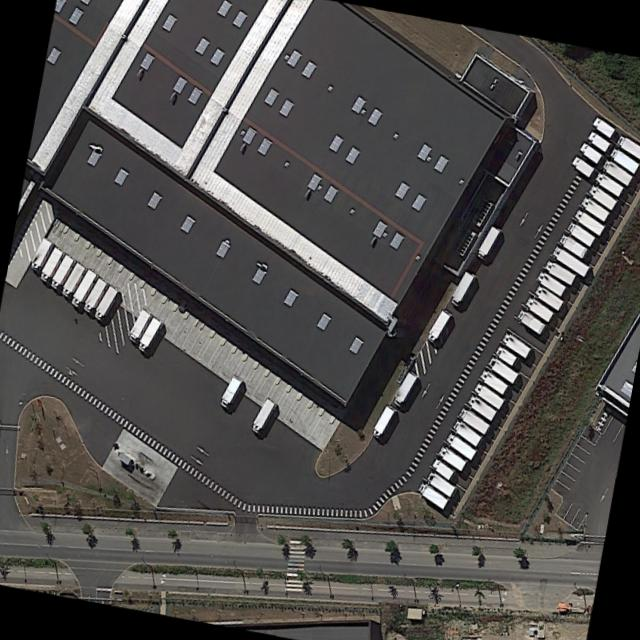large-vehicle: (550, 243, 590, 276), (68, 266, 98, 308), (248, 395, 277, 435), (58, 259, 87, 298), (134, 314, 163, 353), (125, 305, 153, 344), (48, 251, 76, 290), (81, 274, 108, 314), (91, 283, 119, 321), (473, 223, 501, 261), (448, 268, 476, 306), (37, 244, 64, 283), (390, 369, 418, 406), (456, 404, 490, 434), (443, 429, 477, 459), (424, 307, 452, 343), (485, 354, 519, 383), (369, 403, 396, 439), (27, 235, 53, 272), (465, 391, 497, 421), (450, 417, 483, 446), (415, 479, 448, 508), (424, 468, 457, 497), (216, 373, 243, 408), (472, 379, 504, 408), (600, 156, 632, 185), (532, 282, 565, 310), (572, 207, 605, 235), (607, 145, 639, 173), (534, 268, 567, 295), (542, 257, 575, 284), (477, 366, 508, 394), (515, 306, 546, 334), (523, 294, 554, 322), (500, 330, 531, 357), (557, 231, 588, 258), (578, 194, 609, 221), (565, 218, 595, 245), (586, 182, 616, 209), (593, 169, 623, 196), (436, 443, 466, 470), (577, 139, 603, 164), (429, 455, 455, 480), (615, 133, 640, 159), (590, 114, 616, 138), (569, 153, 594, 177), (585, 129, 611, 152), (493, 343, 518, 366)
